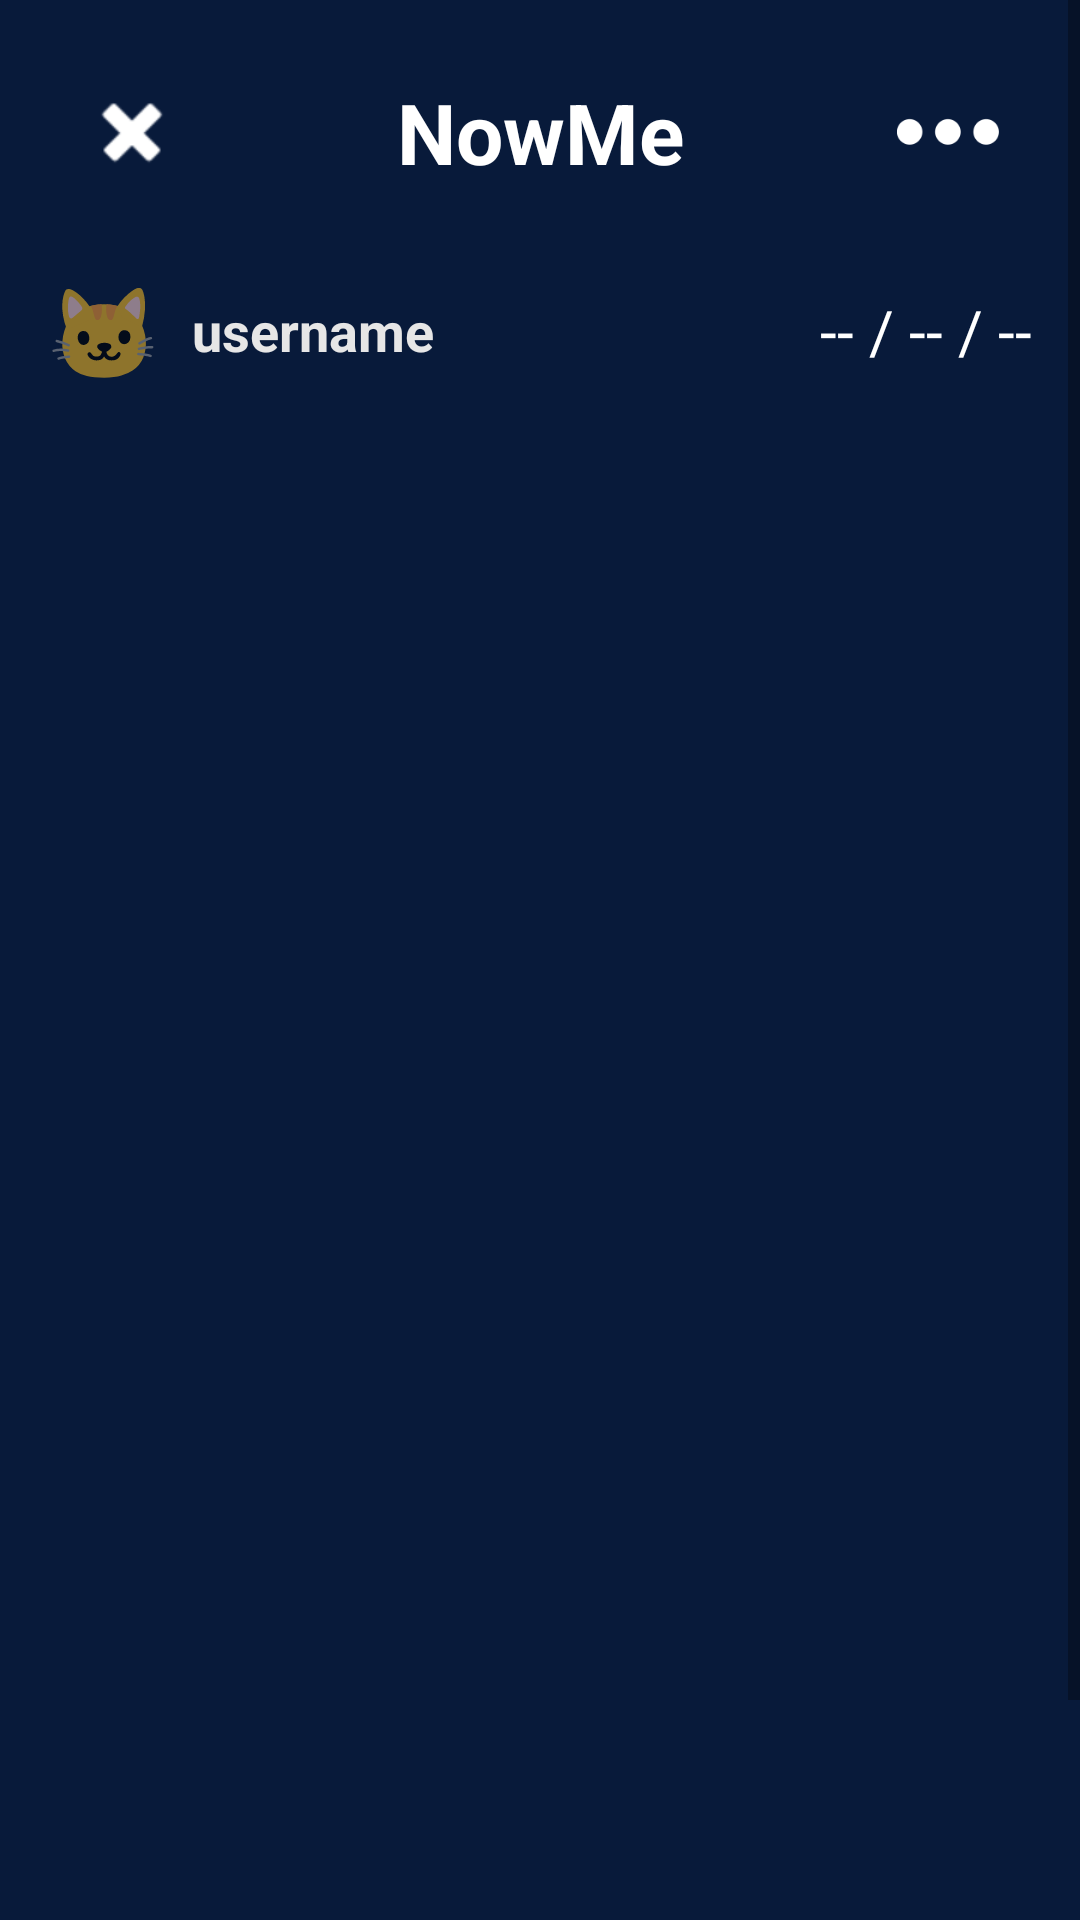

Named icons in this screenshot (1080 × 1920) and their bounding boxes, (x1, y1, x2, y2):
delete: (101, 103, 163, 162)
points: (897, 119, 999, 145)
